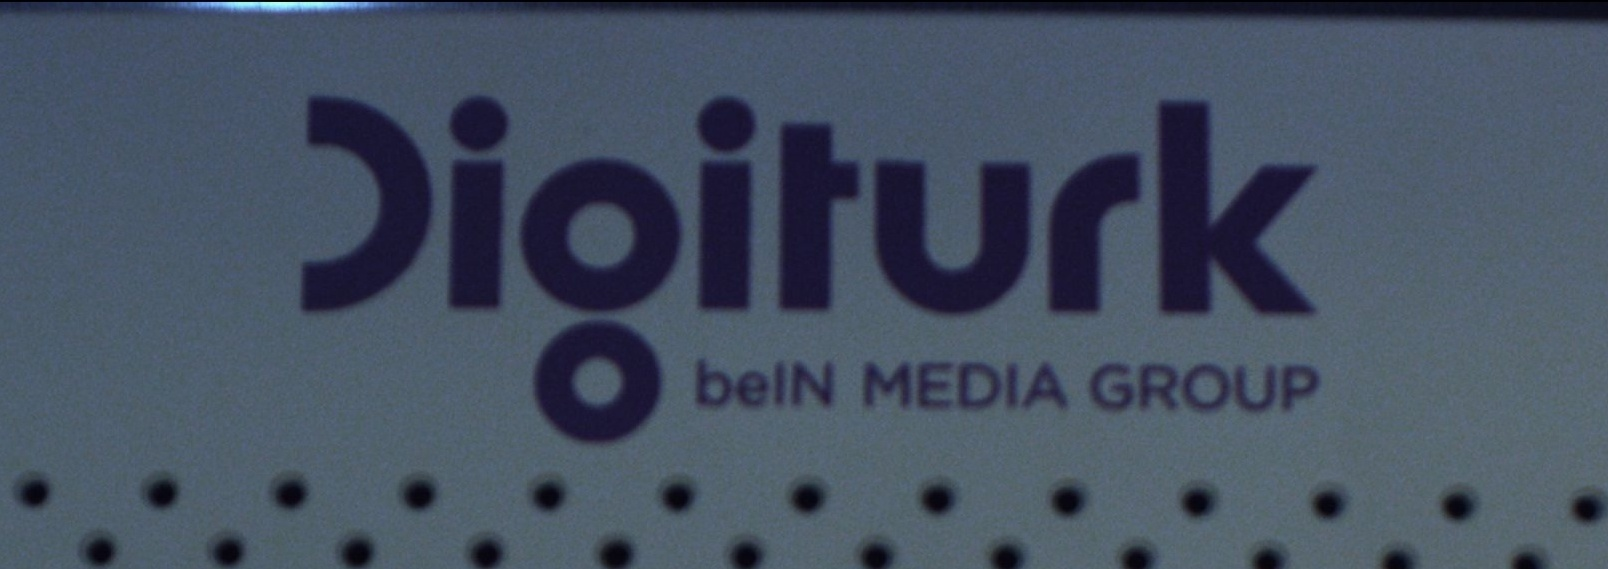BW_H168ADigiturk: (269, 35, 1352, 455)
